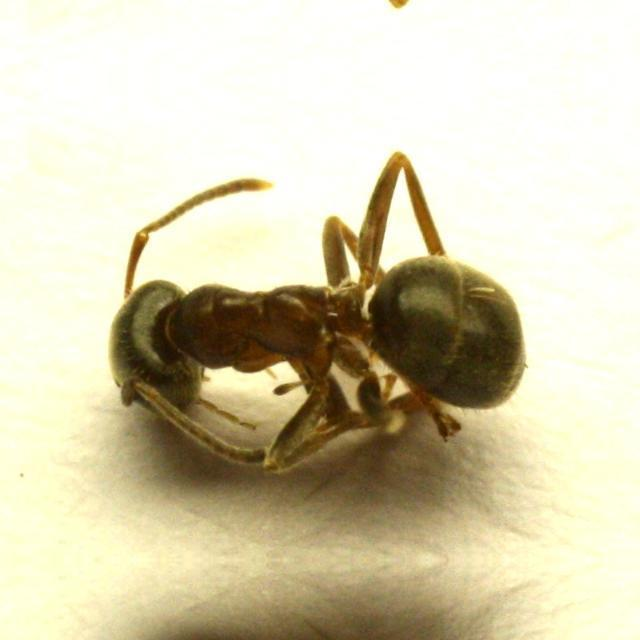Lasius: (77, 180, 549, 462)
